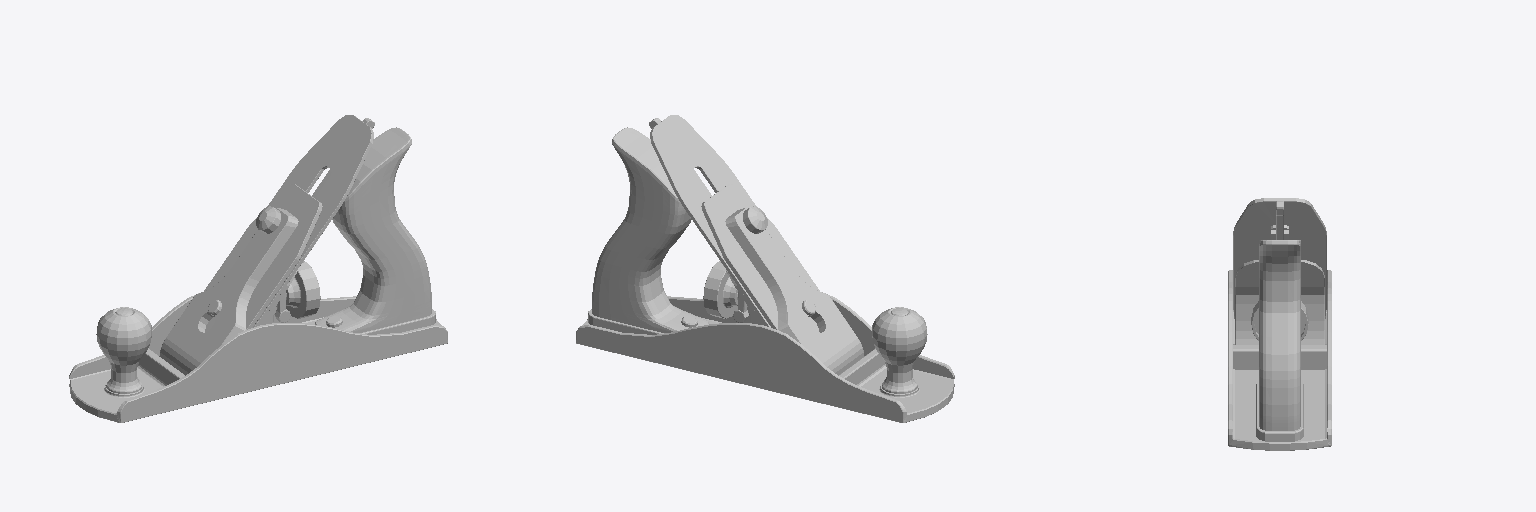
File: hand_plane_no4_1k.obj
3 views of the same model, side by side, from view 1: azimuth 30°, elevation 25°; view 2: azimuth 150°, elevation 25°; view 3: azimuth 270°, elevation 25° (orthographic).
Visible parts, largest first — view 1: hand_plane_no4; view 2: hand_plane_no4; view 3: hand_plane_no4.
Boxes of the visible parts, x1=… form: hand_plane_no4: x1=69, y1=115, x2=447, y2=422; hand_plane_no4: x1=576, y1=115, x2=954, y2=422; hand_plane_no4: x1=1228, y1=198, x2=1331, y2=450.
Size of the model in its own units: 1.98 by 1.19 by 0.5059.